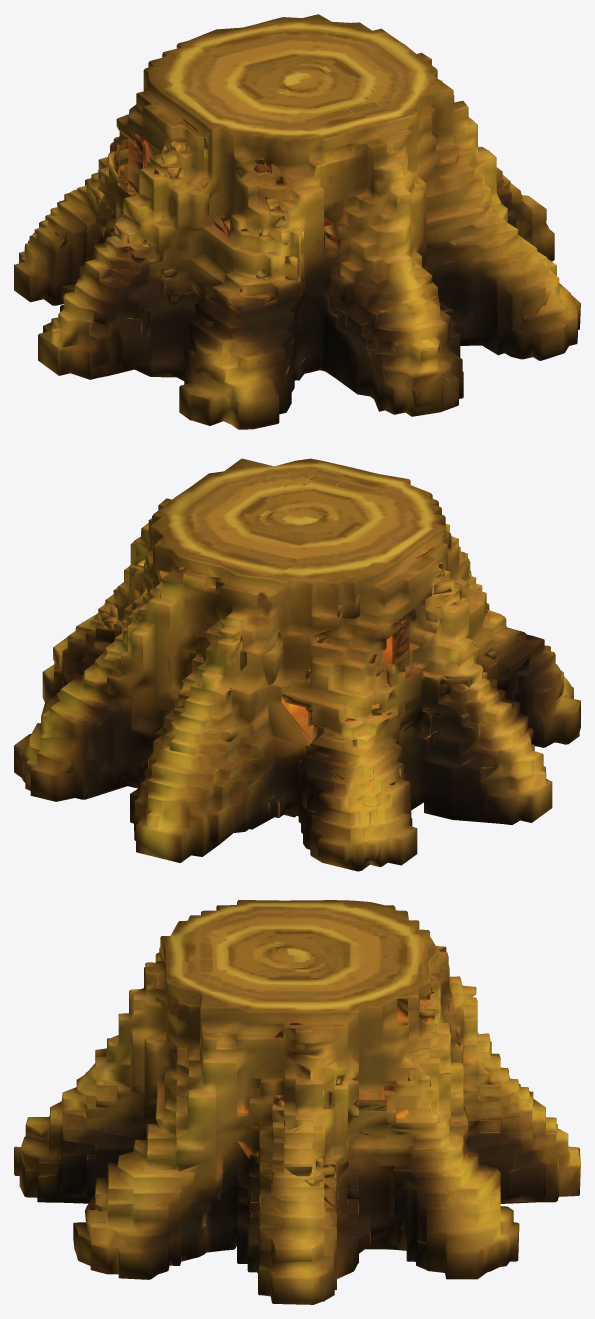
Rendered from whorlstump.glb.
3 views of the same model, one above another, from view 1: azimuth 30°, elevation 25°; view 2: azimuth 150°, elevation 25°; view 3: azimuth 270°, elevation 25° (orthographic).
Bounding box in the file's own units: 1.9 × 0.8571 × 1.91.
Materials: 1 (1 with a texture image).
